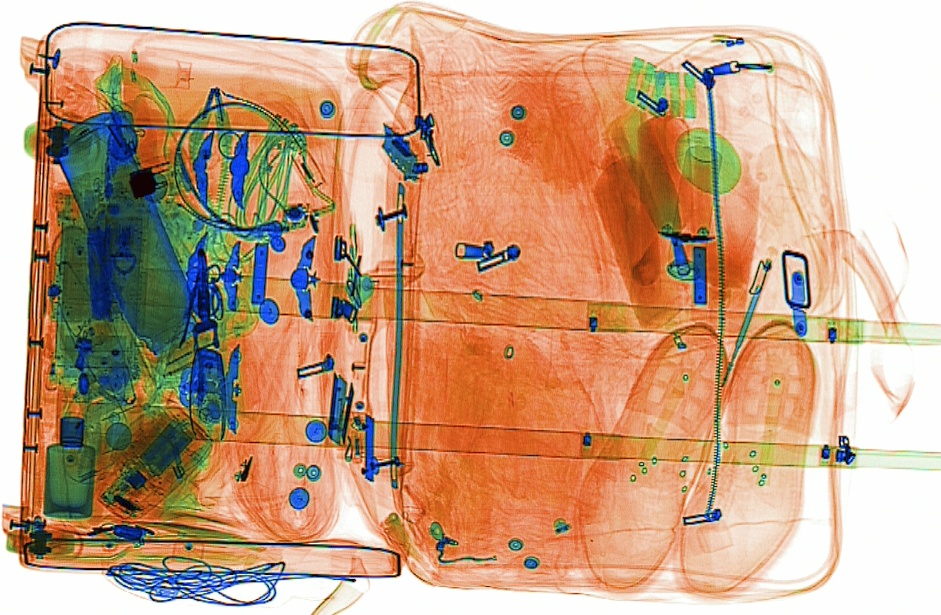pressure: (663, 145, 723, 283)
